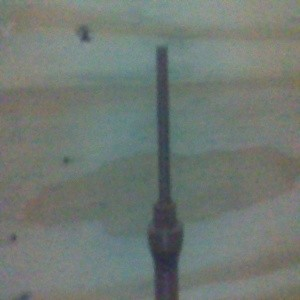obeng: (145, 45, 185, 300)
